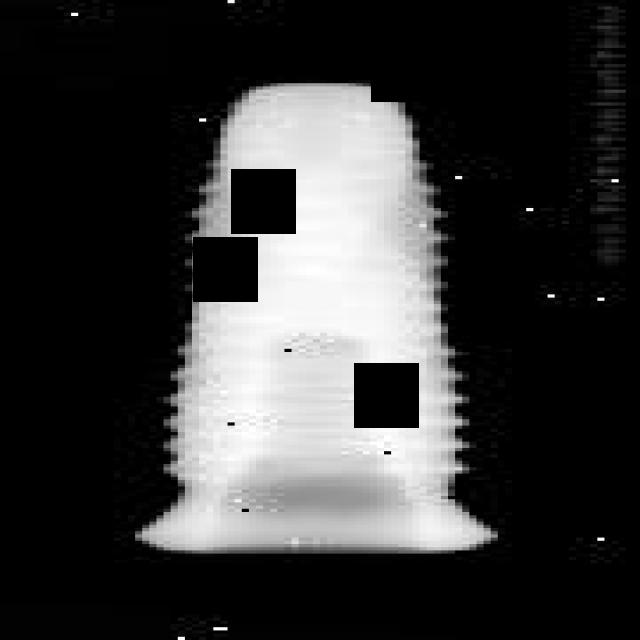Titan Implant Implant: (135, 80, 498, 554)
